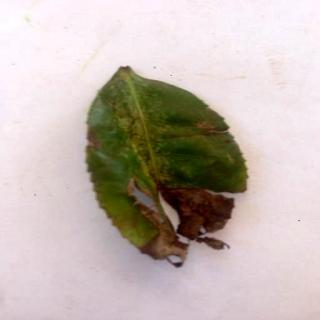Brown Blight: (88, 66, 251, 266)
